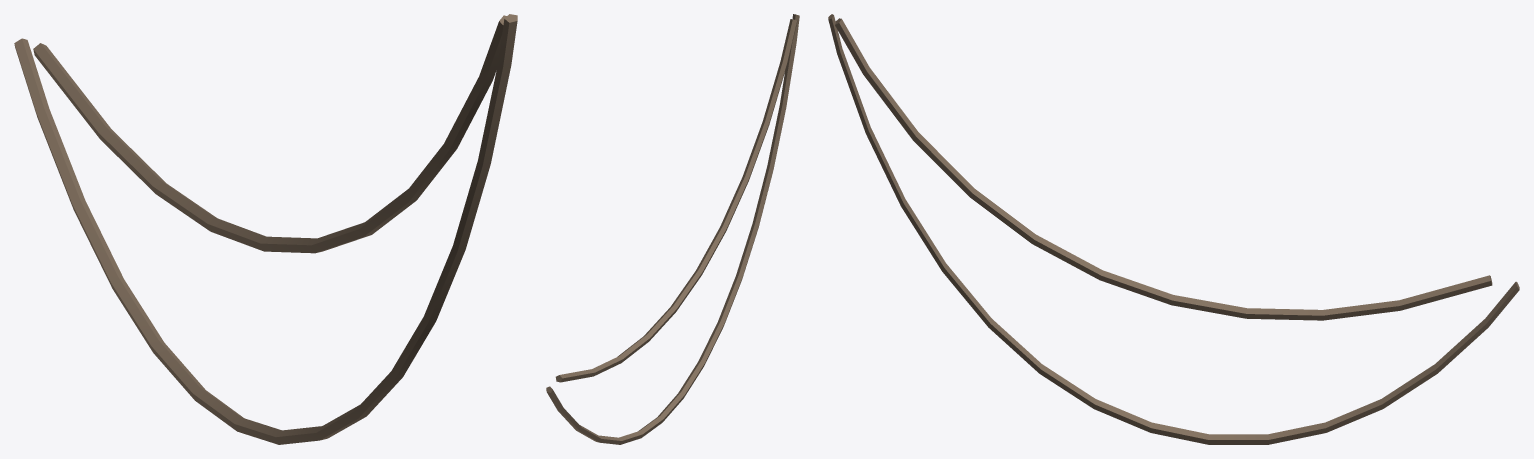
File: SM_Veh_Ship_S_Rigging_Front_02.fbx
The picture shows the model from 3 angles, left to right: view 1: azimuth 30°, elevation 25°; view 2: azimuth 150°, elevation 25°; view 3: azimuth 270°, elevation 25°; orthographic projection. The views are drawn at different scales.
Visible parts, largest first — view 1: SM_Veh_Ship_S_Rigging_Front_02; view 2: SM_Veh_Ship_S_Rigging_Front_02; view 3: SM_Veh_Ship_S_Rigging_Front_02.
Boxes of the visible parts, bbox=[...] form: SM_Veh_Ship_S_Rigging_Front_02: bbox=[14, 14, 517, 444]; SM_Veh_Ship_S_Rigging_Front_02: bbox=[546, 14, 799, 444]; SM_Veh_Ship_S_Rigging_Front_02: bbox=[828, 14, 1519, 444].
Size of the model in its own units: 8.68 by 383 by 559.
